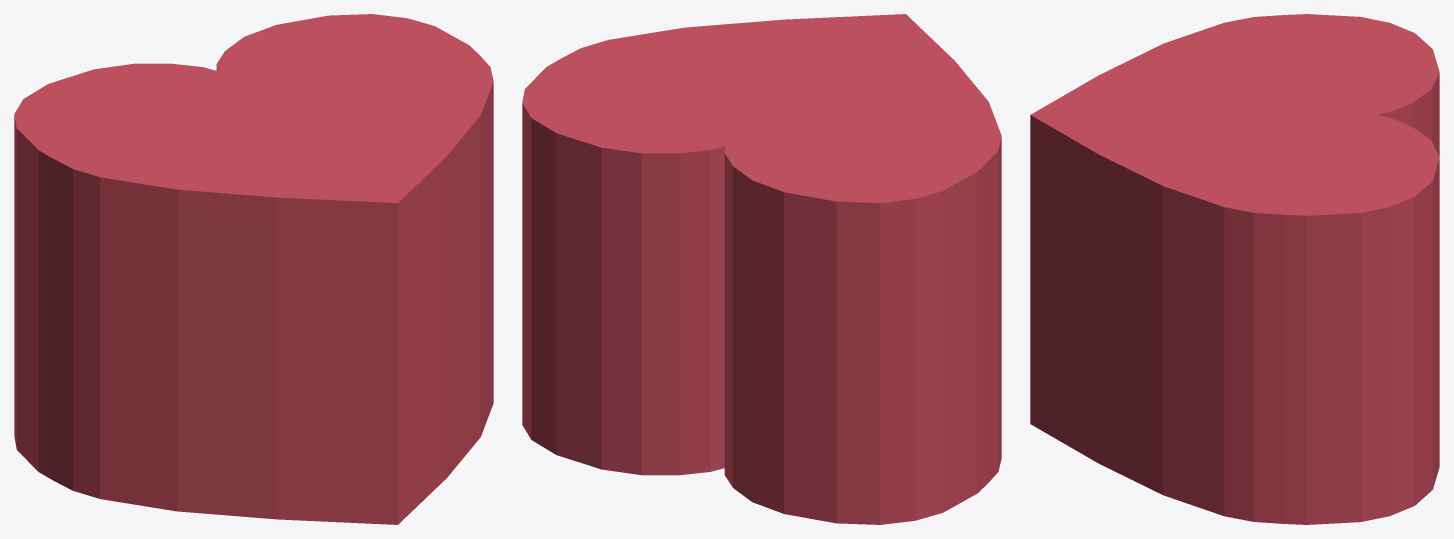
Rendered from heart.glb.
The picture shows the model from 3 angles, left to right: view 1: azimuth 30°, elevation 25°; view 2: azimuth 150°, elevation 25°; view 3: azimuth 270°, elevation 25°; orthographic projection. The views are drawn at different scales.
Visible parts, largest first — view 1: Mesh_Mesh_head_geo.001_lambert2SG.001; view 2: Mesh_Mesh_head_geo.001_lambert2SG.001; view 3: Mesh_Mesh_head_geo.001_lambert2SG.001.
Part boxes in pixels (left/top/right/bottom): Mesh_Mesh_head_geo.001_lambert2SG.001: left=14, top=14, right=493, bottom=524; Mesh_Mesh_head_geo.001_lambert2SG.001: left=522, top=14, right=1001, bottom=524; Mesh_Mesh_head_geo.001_lambert2SG.001: left=1030, top=14, right=1439, bottom=524.
Bounding box in the file's own units: 14 × 10 × 12.
